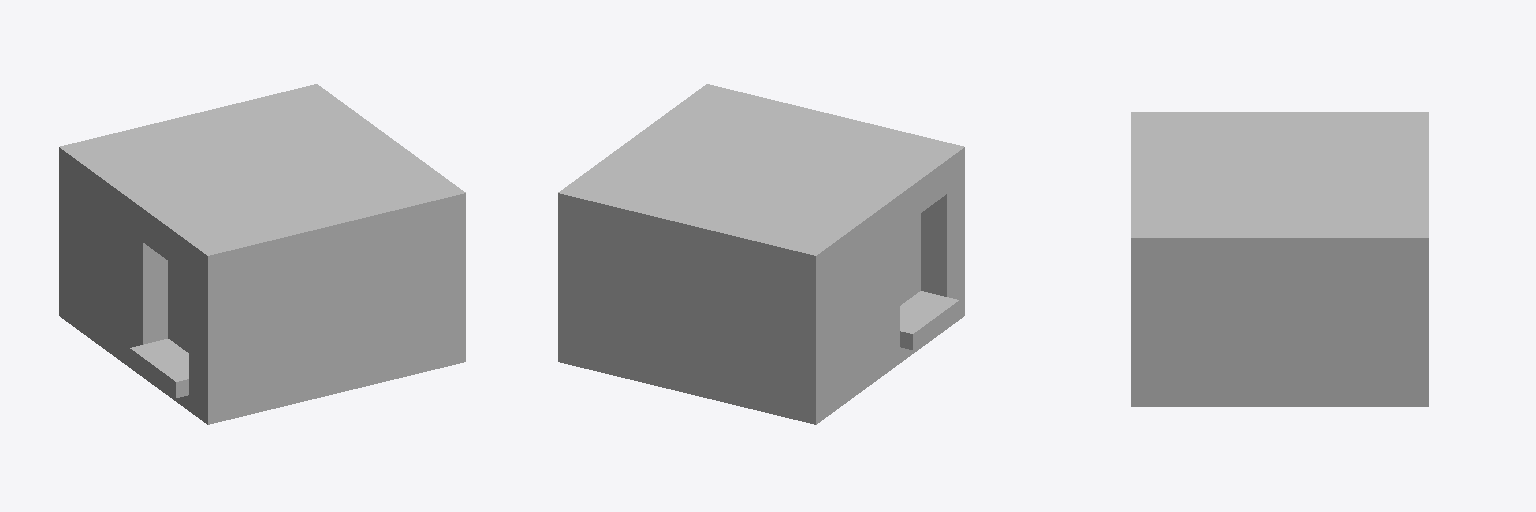
3 views of the same model, side by side, from view 1: azimuth 30°, elevation 25°; view 2: azimuth 150°, elevation 25°; view 3: azimuth 270°, elevation 25° (orthographic).
Parts seen in each view (by area): view 1: G-__556158_G-__556158_Brick, G-__556158_G-__556158_Glass; view 2: G-__556158_G-__556158_Brick, G-__556158_G-__556158_Glass; view 3: G-__556158_G-__556158_Brick.
Boxes of the visible parts, box(x1,y1,x2,y2) form: G-__556158_G-__556158_Brick: box(59, 84, 465, 424); G-__556158_G-__556158_Glass: box(168, 261, 188, 352); G-__556158_G-__556158_Brick: box(558, 84, 964, 424); G-__556158_G-__556158_Glass: box(900, 213, 920, 305); G-__556158_G-__556158_Brick: box(1131, 112, 1428, 406).
Bounding box in the file's own units: 1.05 × 0.625 × 1.